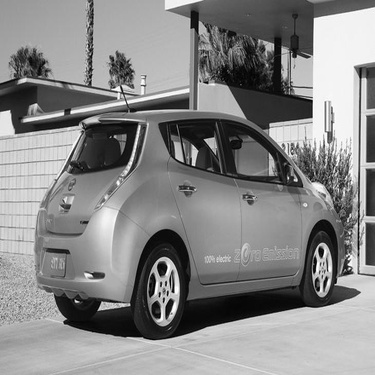car: (28, 99, 352, 343)
